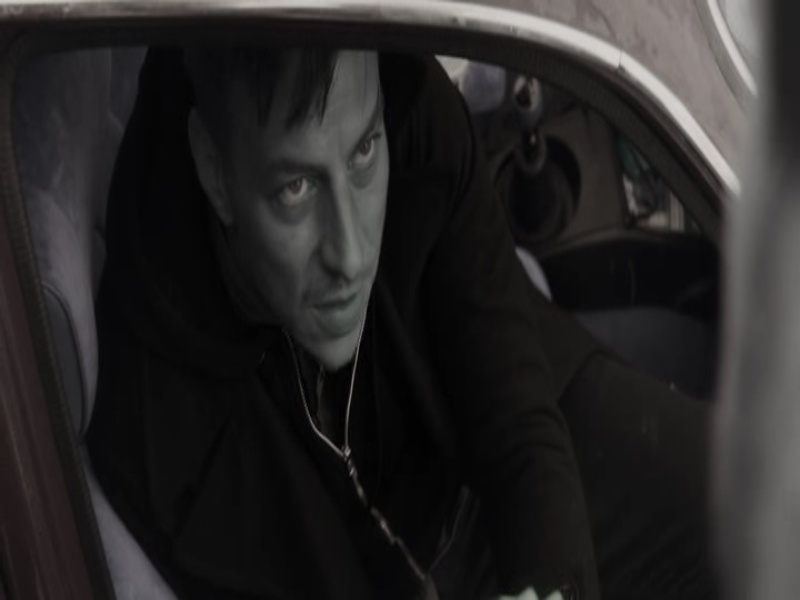TsisyArotava: (208, 58, 417, 398)
